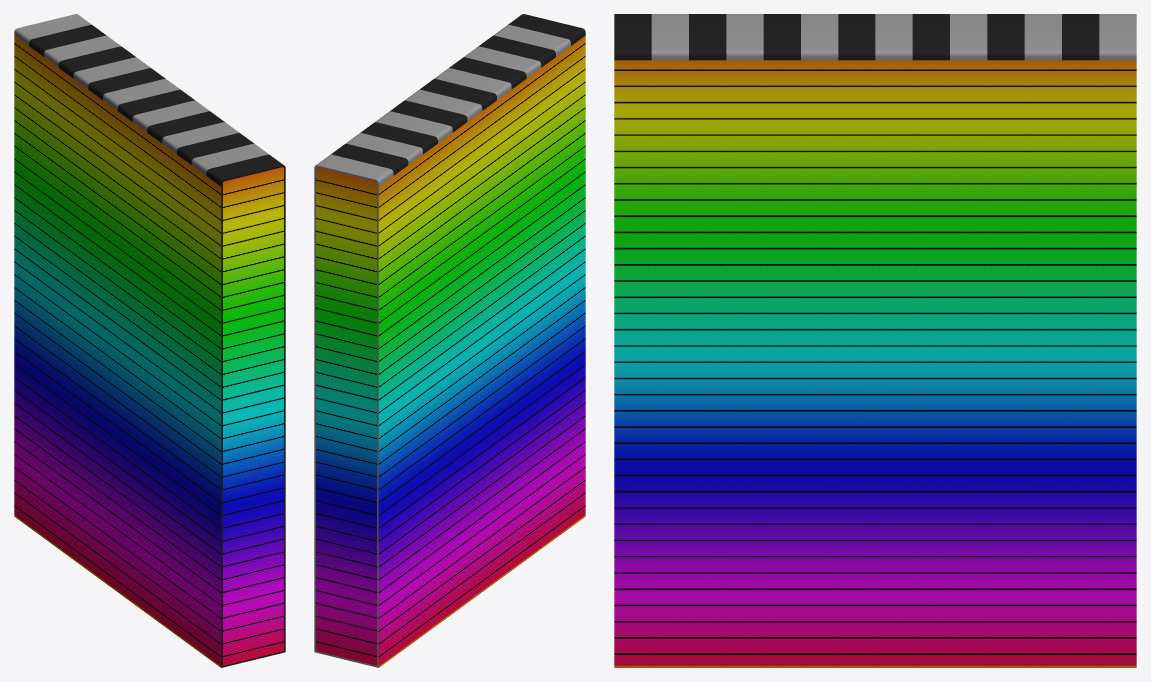
Rendered from VerticalPlatform.fbx.
The picture shows the model from 3 angles, left to right: view 1: azimuth 30°, elevation 25°; view 2: azimuth 150°, elevation 25°; view 3: azimuth 270°, elevation 25°; orthographic projection. The views are drawn at different scales.
Parts seen in each view (by area): view 1: Box003; view 2: Box003; view 3: Box003.
Part boxes in pixels (x1,y1,x2,y2): Box003: (14,14,285,667); Box003: (314,14,585,667); Box003: (614,14,1136,667).
Bounding box in the file's own units: 90 × 500 × 650.
Materials: 4 (2 with a texture image).
